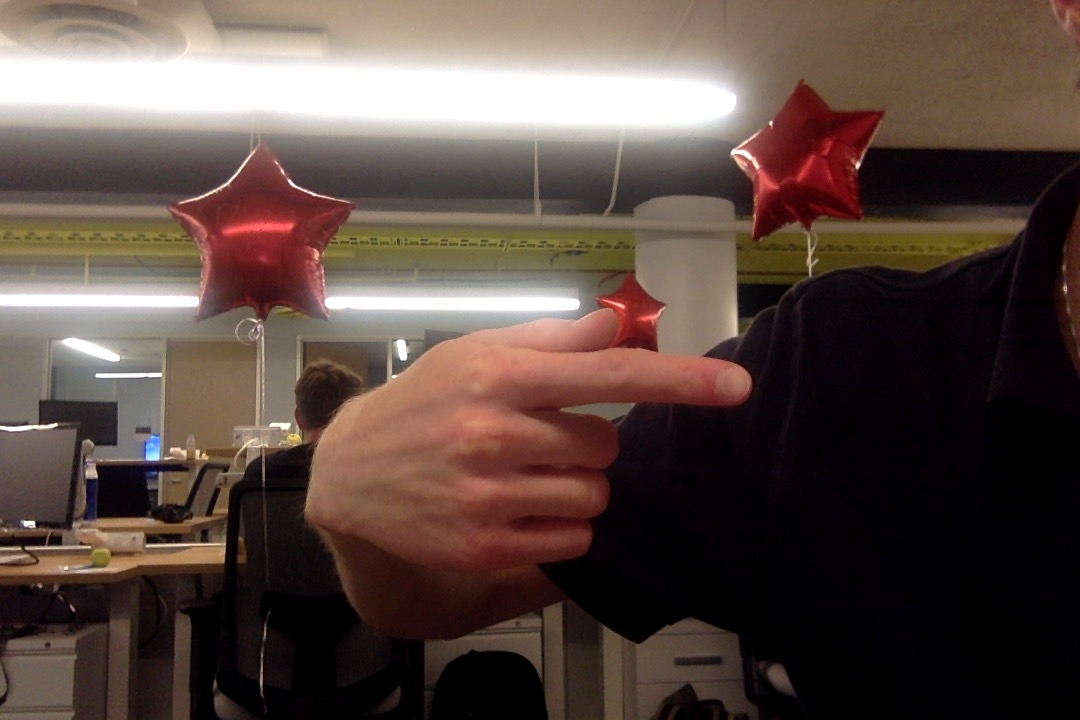g: (302, 305, 762, 581)
